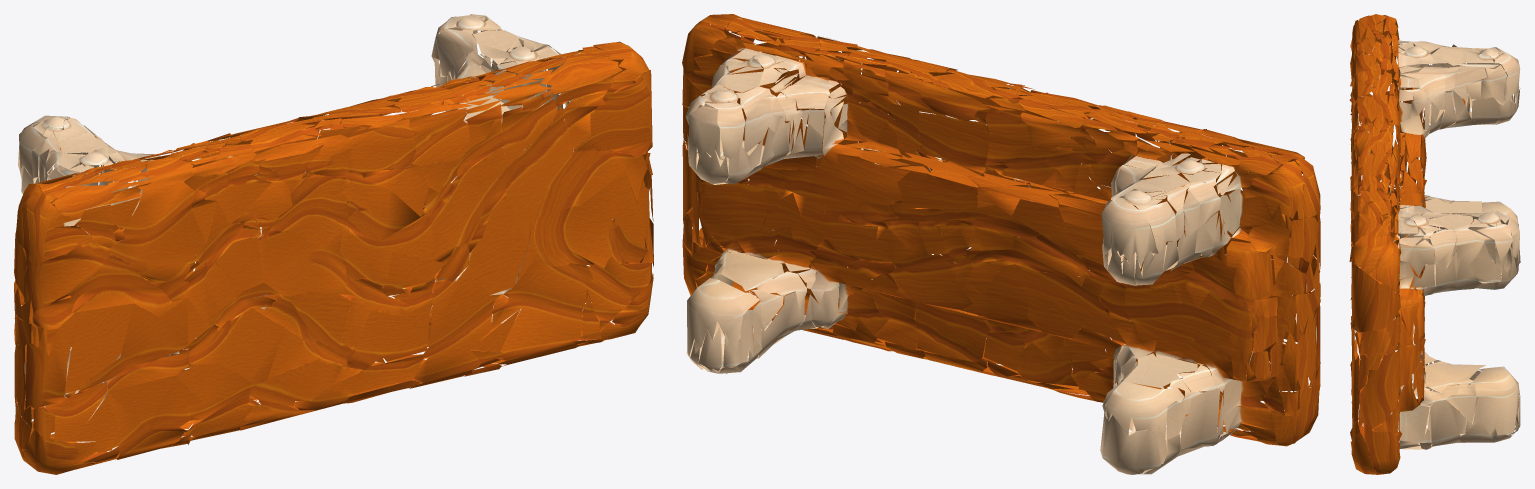
Rendered from wooden_shelf_v1.glb.
3 renders of one model, left to right at view 1: azimuth 30°, elevation 25°; view 2: azimuth 150°, elevation 25°; view 3: azimuth 270°, elevation 25°, orthographic. The views are drawn at different scales.
Parts seen in each view (by area): view 1: Mesh_0; view 2: Mesh_0; view 3: Mesh_0.
Part boxes in pixels (x1=…): Mesh_0: x1=14, y1=14, x2=653, y2=474; Mesh_0: x1=682, y1=14, x2=1320, y2=474; Mesh_0: x1=1349, y1=14, x2=1520, y2=474.
Size of the model in its own units: 1.91 by 0.8351 by 0.557.
1 material, 1 textured.
